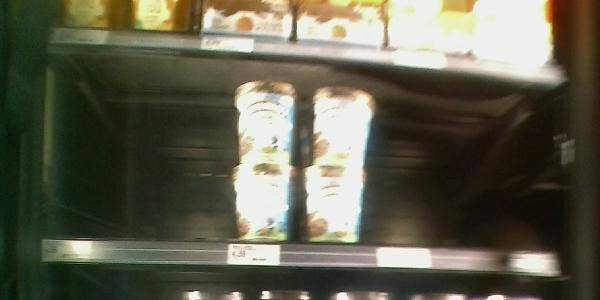icecream1: (233, 77, 299, 165), (316, 84, 382, 164), (302, 161, 368, 241), (231, 164, 296, 242)
